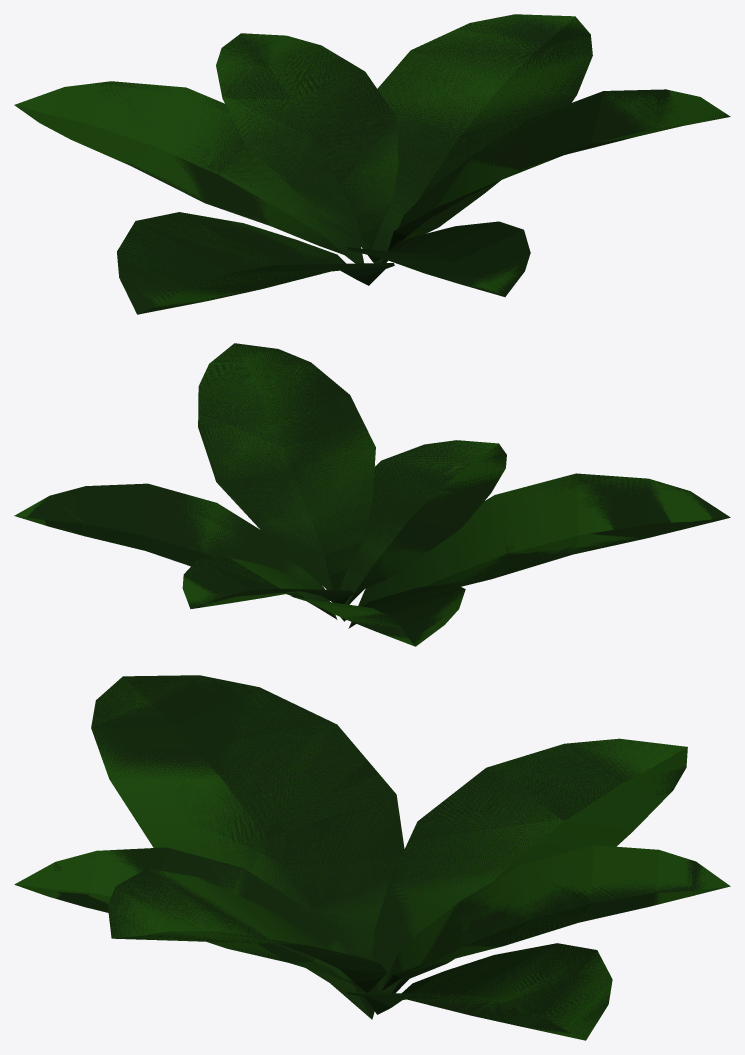
Rendered from Sm_Flowers5L.fbx.
3 renders of one model, top to bottom at view 1: azimuth 30°, elevation 25°; view 2: azimuth 150°, elevation 25°; view 3: azimuth 270°, elevation 25°, orthographic. The views are drawn at different scales.
Visible parts, largest first — view 1: Sm_Flowers5L; view 2: Sm_Flowers5L; view 3: Sm_Flowers5L.
Part boxes in pixels (x1,y1,x2,y2): Sm_Flowers5L: (14, 14, 730, 314); Sm_Flowers5L: (14, 343, 730, 646); Sm_Flowers5L: (14, 675, 730, 1040).
Bounding box in the file's own units: 74.96 × 21.94 × 63.53.
